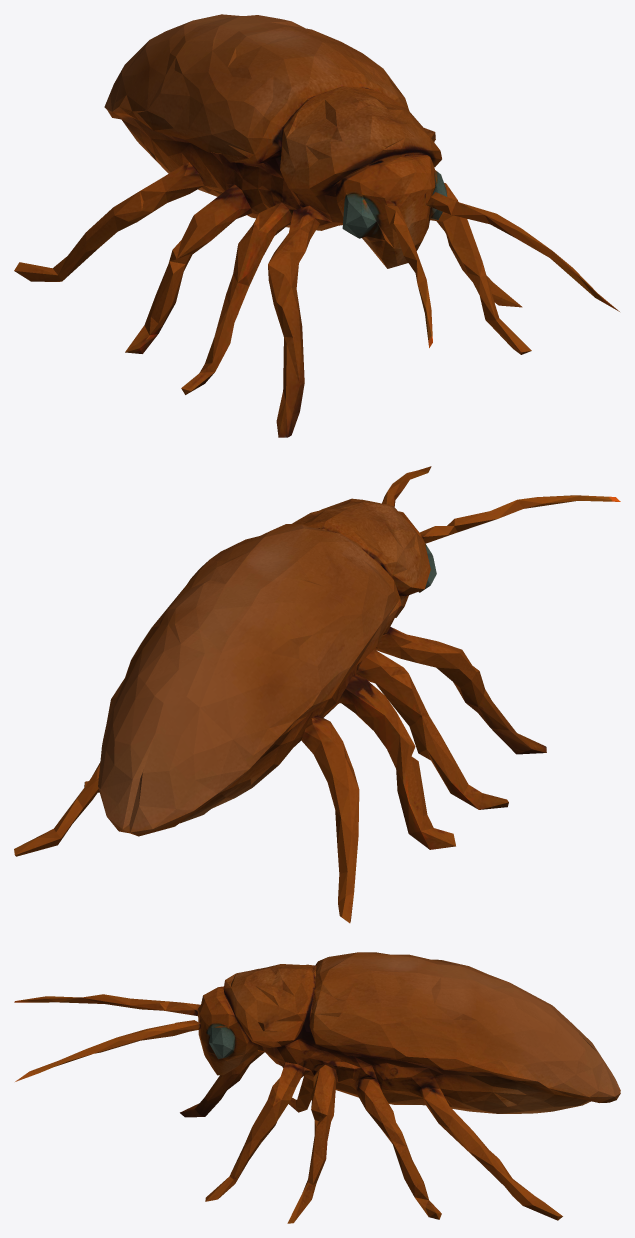
Rendered from tripo_convert_7ef63e34-fe1e-46f3-94c7-86bdb2215c8b.obj.
3 renders of one model, top to bottom at view 1: azimuth 30°, elevation 25°; view 2: azimuth 150°, elevation 25°; view 3: azimuth 270°, elevation 25°, orthographic. The views are drawn at different scales.
Parts seen in each view (by area): view 1: tripo_node_7ef63e34-fe1e-46f3-94c7-86bdb2215c8b; view 2: tripo_node_7ef63e34-fe1e-46f3-94c7-86bdb2215c8b; view 3: tripo_node_7ef63e34-fe1e-46f3-94c7-86bdb2215c8b.
Part boxes in pixels (bbox=[...]): tripo_node_7ef63e34-fe1e-46f3-94c7-86bdb2215c8b: bbox=[14, 14, 619, 437]; tripo_node_7ef63e34-fe1e-46f3-94c7-86bdb2215c8b: bbox=[14, 466, 620, 923]; tripo_node_7ef63e34-fe1e-46f3-94c7-86bdb2215c8b: bbox=[14, 952, 620, 1223].
Size of the model in its own units: 0.4983 by 0.3763 by 1.
1 material, 1 textured.
